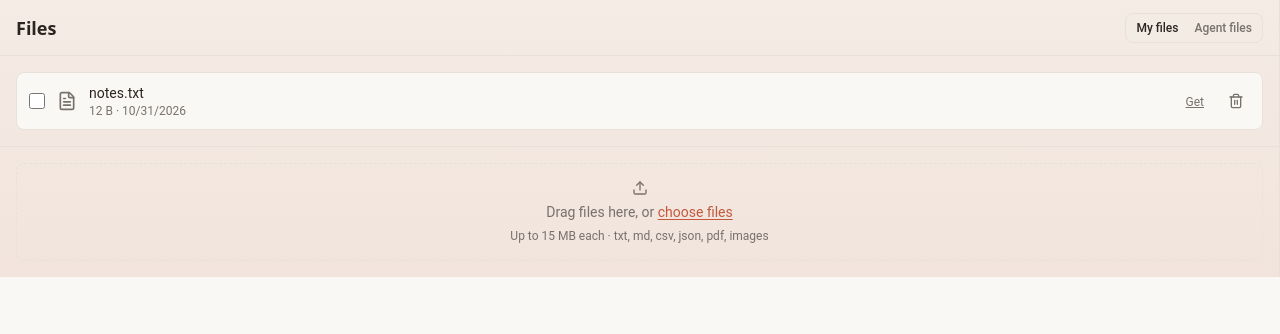
Test: AssetLibrary — bulk download (issue #69) › toggles selection off and hides the action at zero selected
Expected: the text "notes.txt" is shown, [89,85,144,101]
Click the checkbox named "Select notes.txt": (37, 101) [29,93,45,109]
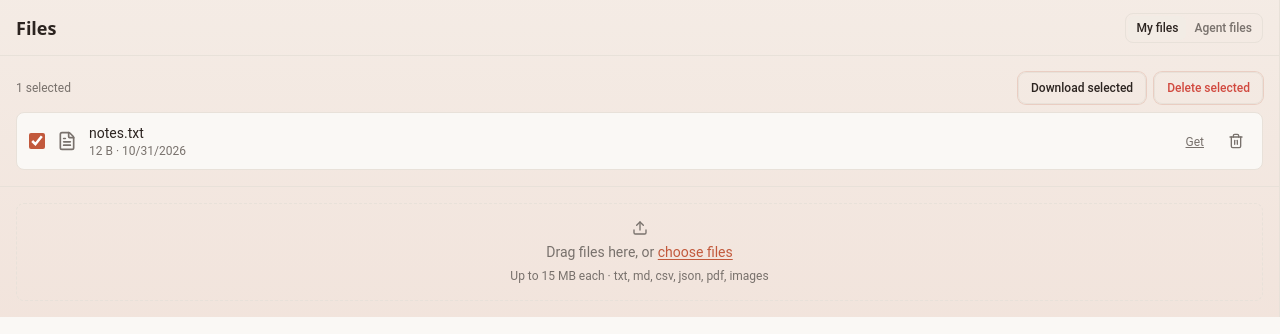
Expected: the button with test id "asset-bulk-download" is shown, [1018,72,1146,104]
Click the checkbox named "Select notes.txt": (37, 141) [29,133,45,149]
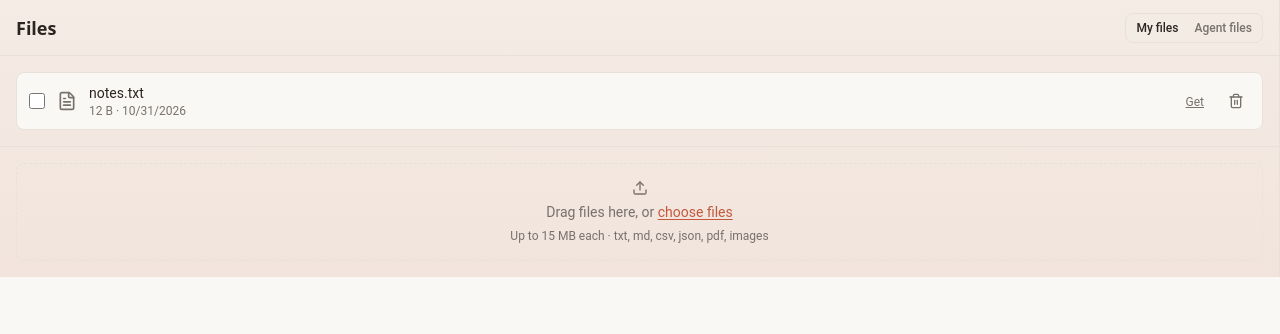
Expected: the button with test id "asset-bulk-download" is gone
